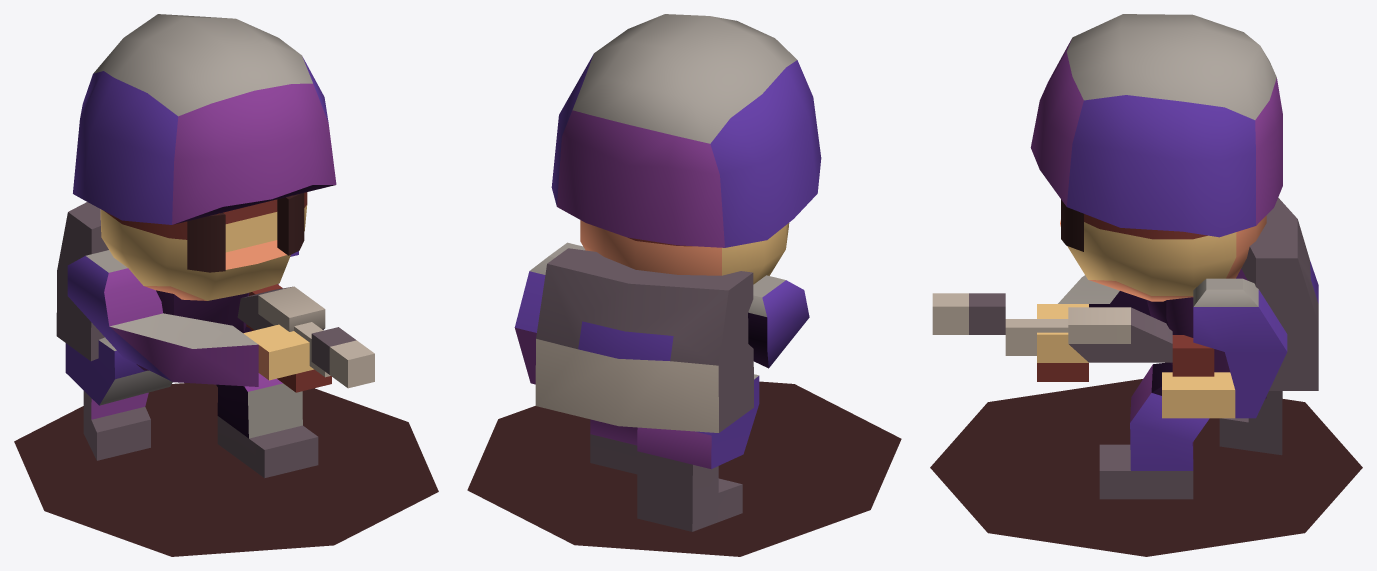
File: InfantryMesh.BlackHole.glb
3 views of the same model, side by side, from view 1: azimuth 30°, elevation 25°; view 2: azimuth 150°, elevation 25°; view 3: azimuth 270°, elevation 25° (orthographic). The views are drawn at different scales.
Parts seen in each view (by area): view 1: InfantryMesh.BlackHole; view 2: InfantryMesh.BlackHole; view 3: InfantryMesh.BlackHole.
Part boxes in pixels (x1,y1,x2,y2): InfantryMesh.BlackHole: (14,14,438,556); InfantryMesh.BlackHole: (467,14,901,556); InfantryMesh.BlackHole: (930,14,1362,556).
Size of the model in its own units: 2.03 by 2.3 by 2.07.
Materials: 1 (1 with a texture image).
